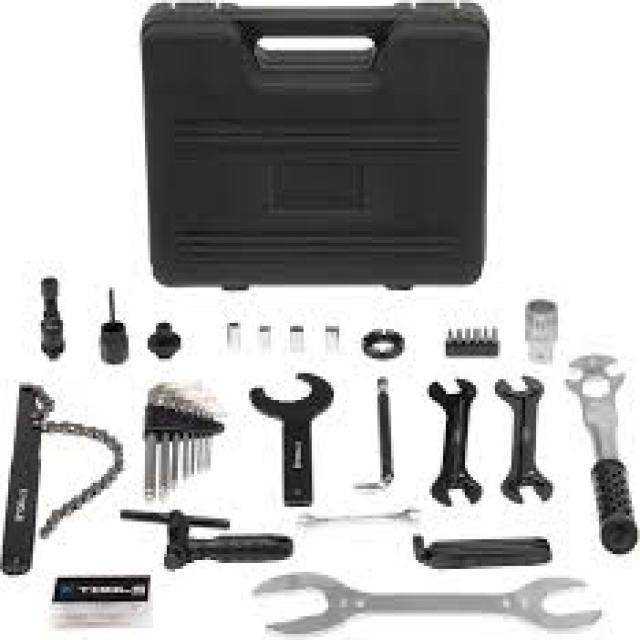wrench: (240, 570, 602, 635), (245, 359, 338, 507), (424, 368, 484, 512), (494, 368, 552, 512)
